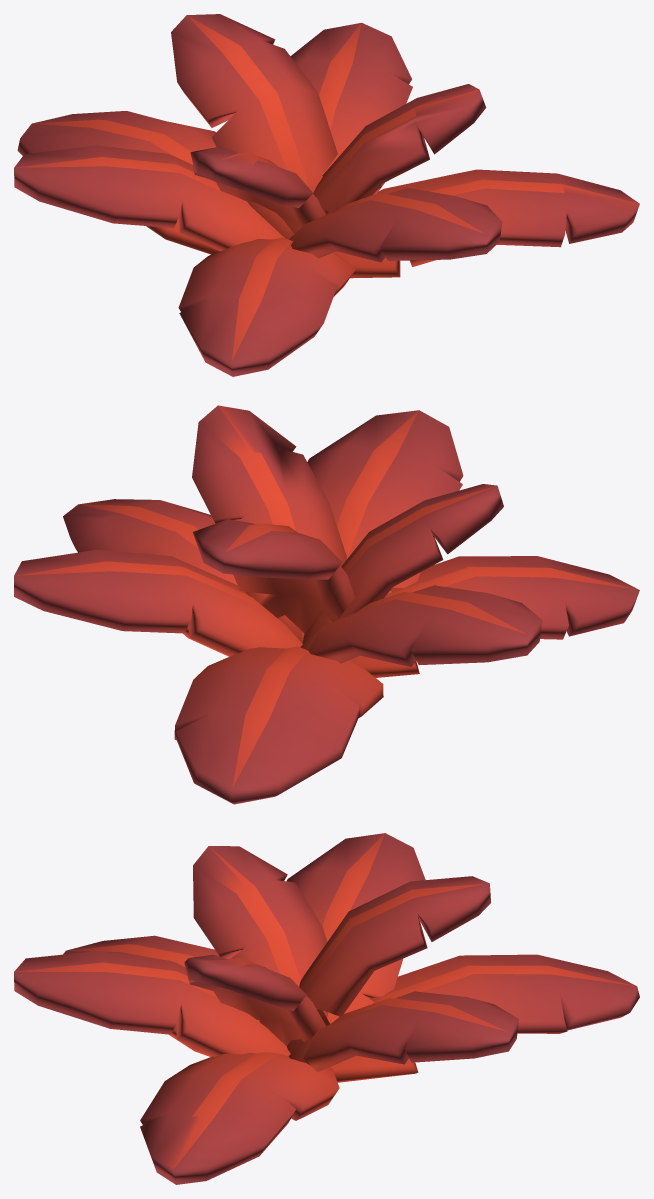
The model's file is Plants_014.fbx.
3 views of the same model, one above another, from view 1: azimuth 30°, elevation 25°; view 2: azimuth 150°, elevation 25°; view 3: azimuth 270°, elevation 25° (orthographic). The views are drawn at different scales.
Visible parts, largest first — view 1: Plants.014; view 2: Plants.014; view 3: Plants.014.
Part boxes in pixels (bbox=[...]): Plants.014: bbox=[14, 14, 639, 376]; Plants.014: bbox=[14, 405, 639, 804]; Plants.014: bbox=[14, 833, 639, 1184].
Size of the model in its own units: 815 by 282 by 855.
